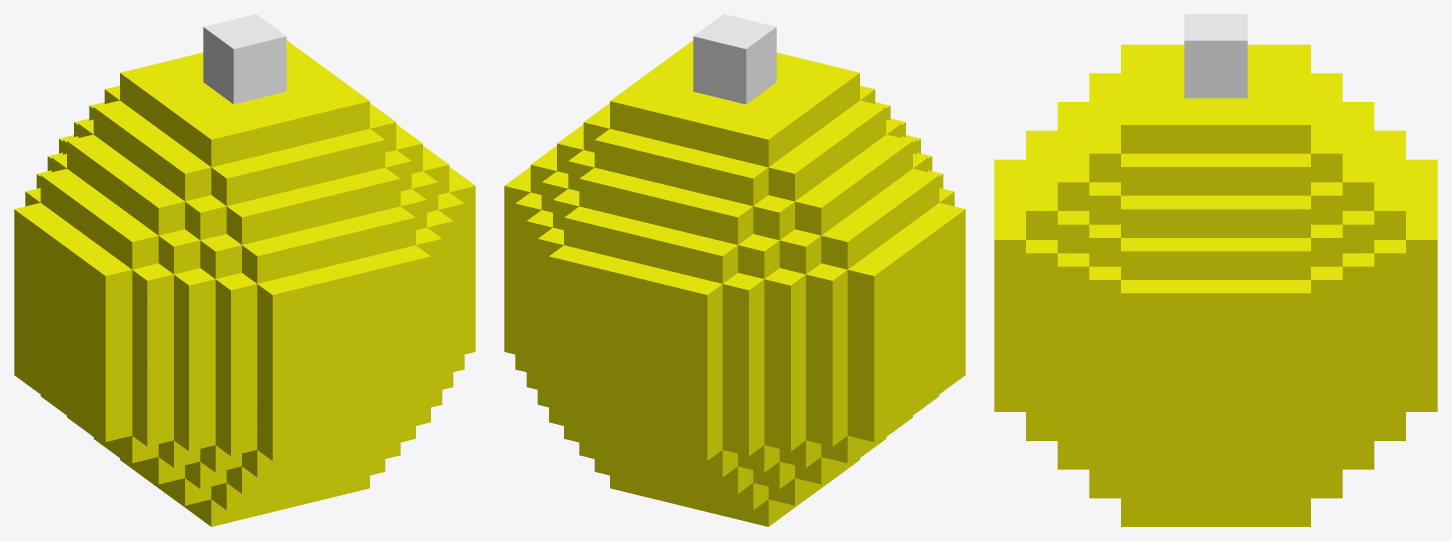
The model's file is ChristmasDecoration5.fbx.
3 renders of one model, left to right at view 1: azimuth 30°, elevation 25°; view 2: azimuth 150°, elevation 25°; view 3: azimuth 270°, elevation 25°, orthographic. The views are drawn at different scales.
Visible parts, largest first — view 1: ObjObject; view 2: ObjObject; view 3: ObjObject.
Boxes of the visible parts, bbox=[...] form: ObjObject: bbox=[14, 14, 475, 526]; ObjObject: bbox=[504, 14, 965, 526]; ObjObject: bbox=[994, 14, 1437, 526].
Size of the model in its own units: 28.23 by 32.27 by 28.23.
